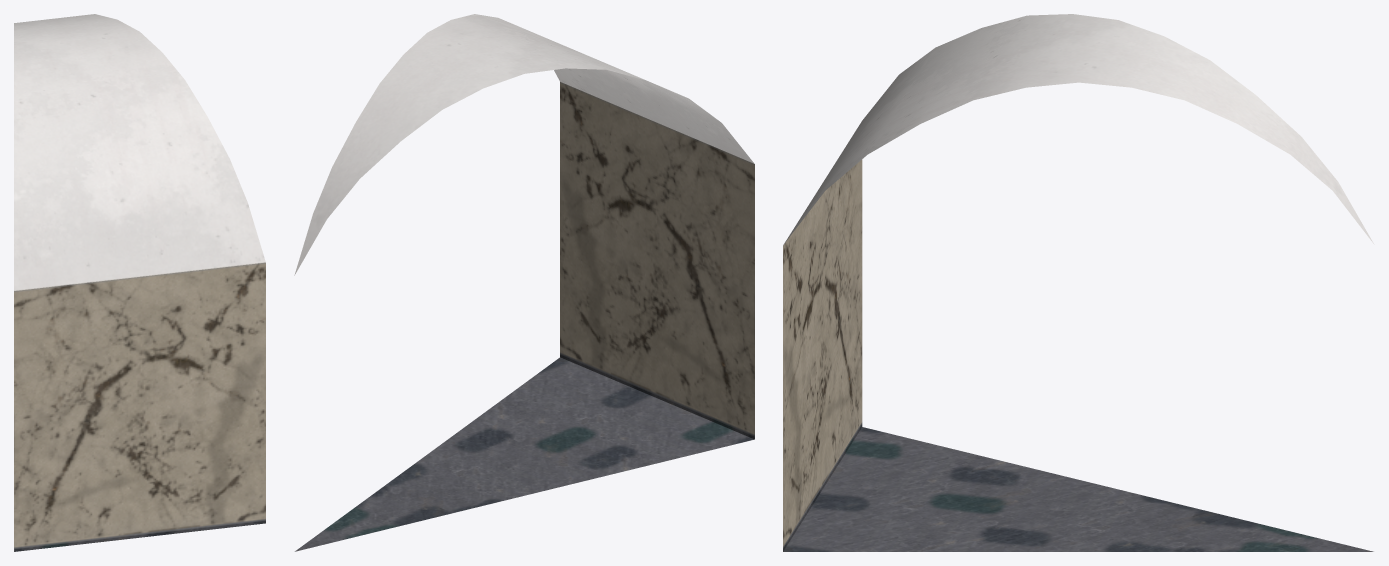
Rendered from interchange walls corner 30.fbx.
The picture shows the model from 3 angles, left to right: view 1: azimuth 30°, elevation 25°; view 2: azimuth 150°, elevation 25°; view 3: azimuth 270°, elevation 25°; orthographic projection. The views are drawn at different scales.
Parts seen in each view (by area): view 1: walls corner 30_low; view 2: walls corner 30_low; view 3: walls corner 30_low.
Part boxes in pixels (x1=…): walls corner 30_low: x1=14, y1=14, x2=265, y2=551; walls corner 30_low: x1=294, y1=14, x2=754, y2=551; walls corner 30_low: x1=783, y1=14, x2=1374, y2=551.
Bounding box in the file's own units: 700 × 350 × 613.
